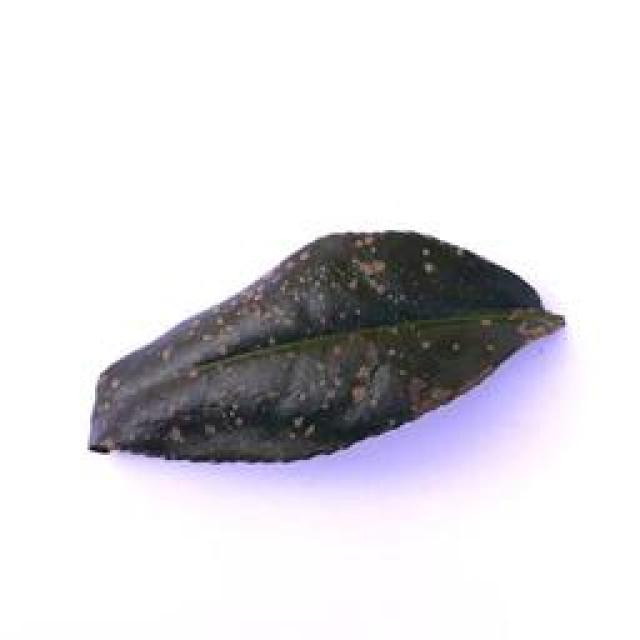Algal Leaf Spot: (72, 208, 594, 490)
